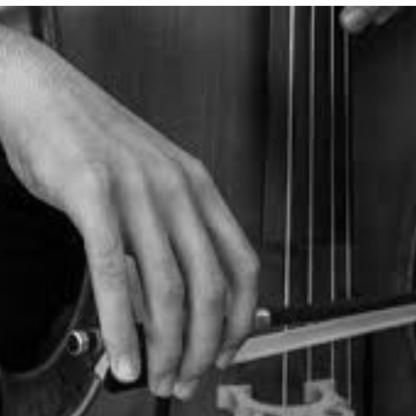good: (62, 123, 262, 403)
